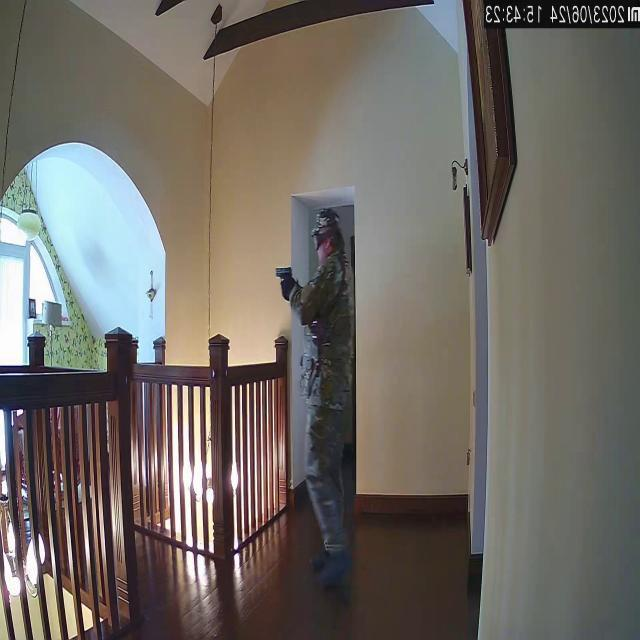pistol: (273, 263, 293, 291)
